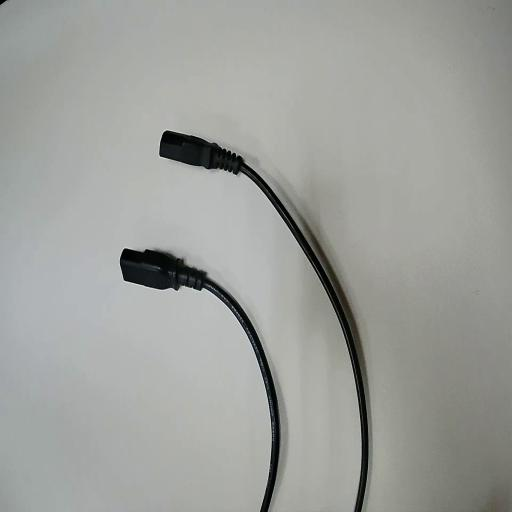wire: (161, 132, 367, 511), (121, 250, 279, 511)
